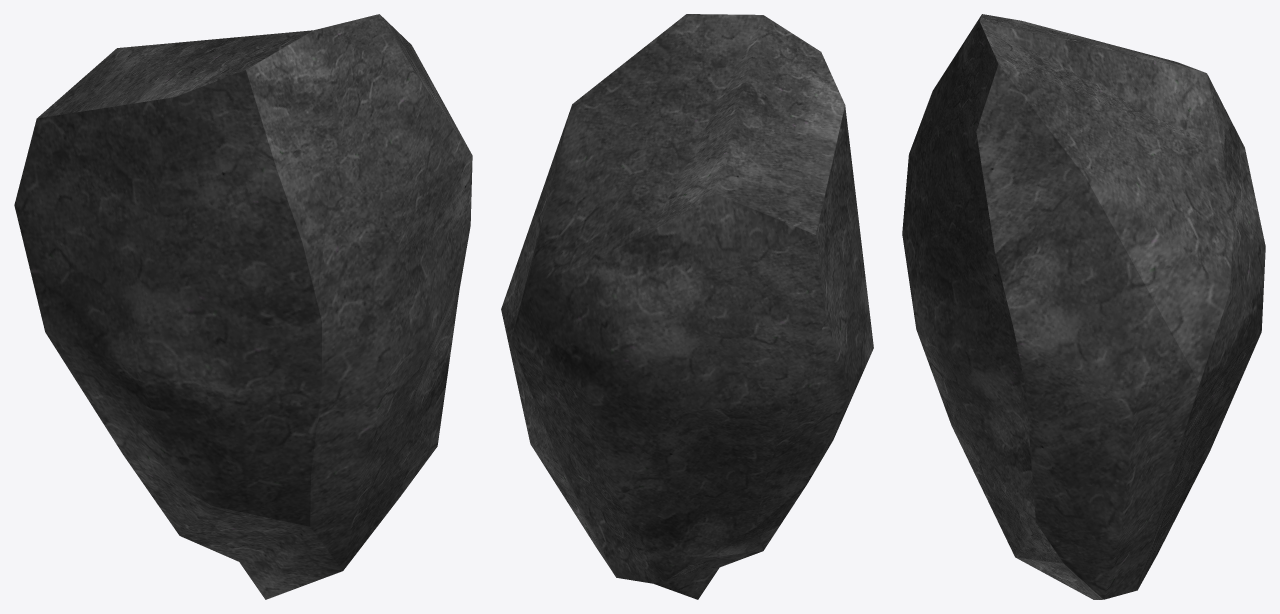
File: Trap_FallStone_44_21_5993.fbx
3 renders of one model, left to right at view 1: azimuth 30°, elevation 25°; view 2: azimuth 150°, elevation 25°; view 3: azimuth 270°, elevation 25°, orthographic. The views are drawn at different scales.
Parts seen in each view (by area): view 1: PerpStage_ExtraStory01_Trap; view 2: PerpStage_ExtraStory01_Trap; view 3: PerpStage_ExtraStory01_Trap.
Boxes of the visible parts, <box> form: PerpStage_ExtraStory01_Trap: <box>14,14,472,599</box>; PerpStage_ExtraStory01_Trap: <box>501,14,873,599</box>; PerpStage_ExtraStory01_Trap: <box>902,14,1265,599</box>.
Bounding box in the file's own units: 1.42 × 2.12 × 1.24.
1 material, 1 textured.
